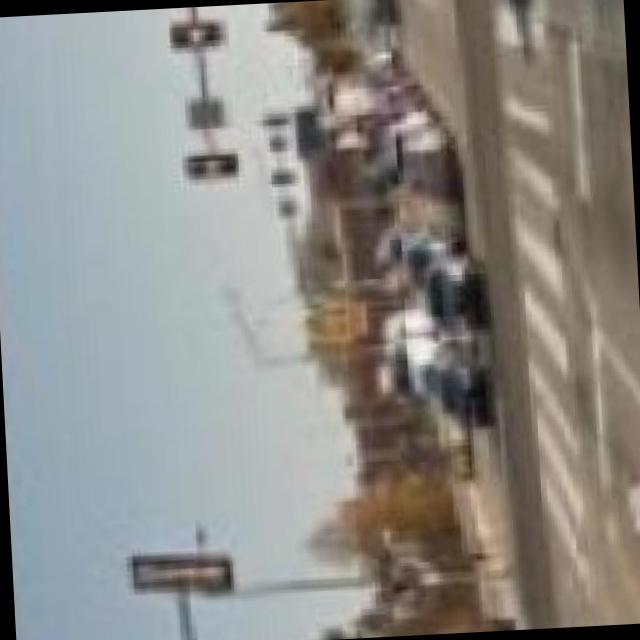zebra: (484, 0, 591, 626)
